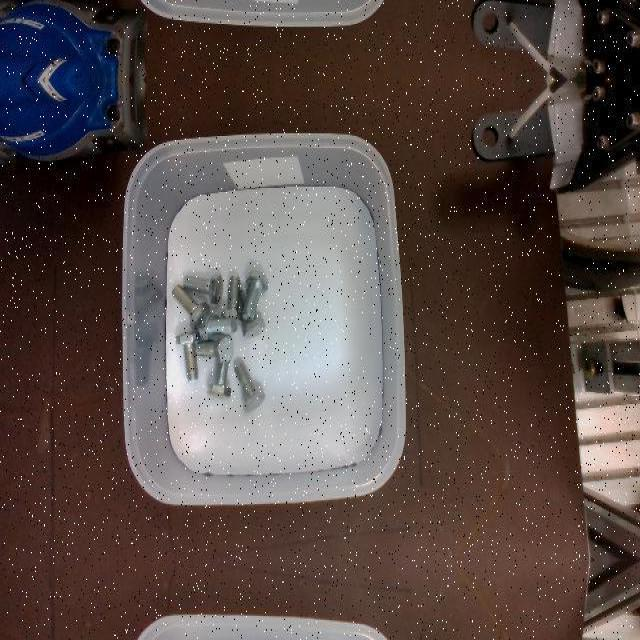screw: (234, 360, 265, 410), (243, 271, 269, 321), (175, 330, 200, 380), (184, 273, 224, 303), (196, 332, 235, 362), (198, 313, 237, 341)
